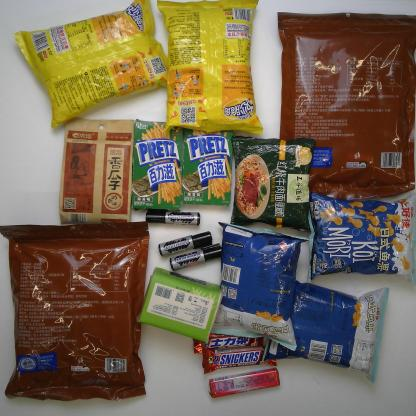Candy: (208, 366, 293, 404)
Chocolate: (200, 341, 282, 375), (188, 328, 270, 355)
Dessert: (128, 108, 185, 211), (177, 124, 237, 206)
Dried Food: (269, 1, 416, 207), (1, 209, 150, 402), (57, 116, 140, 224)
Instant Noodles: (226, 129, 332, 230)
Puffed Food: (9, 3, 176, 131), (149, 3, 263, 138), (269, 279, 401, 383), (209, 218, 309, 342), (306, 190, 416, 282)
Stationery: (154, 223, 216, 256), (168, 244, 226, 272), (136, 206, 206, 228)
Tissue: (135, 266, 232, 344)
